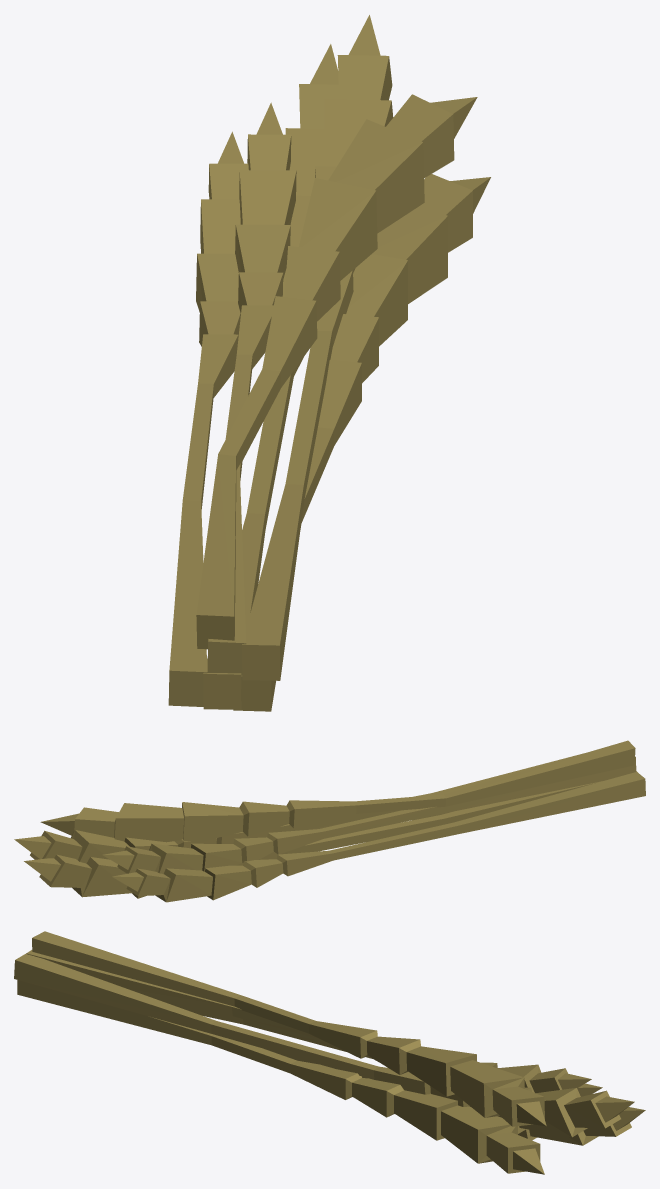
The model's file is produce_wheat.glb.
3 views of the same model, one above another, from view 1: azimuth 30°, elevation 25°; view 2: azimuth 150°, elevation 25°; view 3: azimuth 270°, elevation 25° (orthographic). The views are drawn at different scales.
Bounding box in the file's own units: 0.7788 × 0.1382 × 1.
